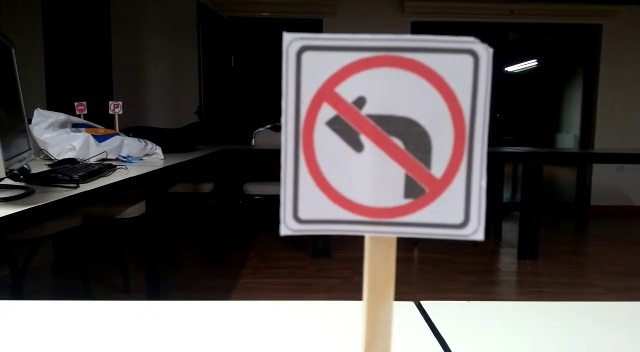sola_donulmez: (285, 36, 491, 226)
